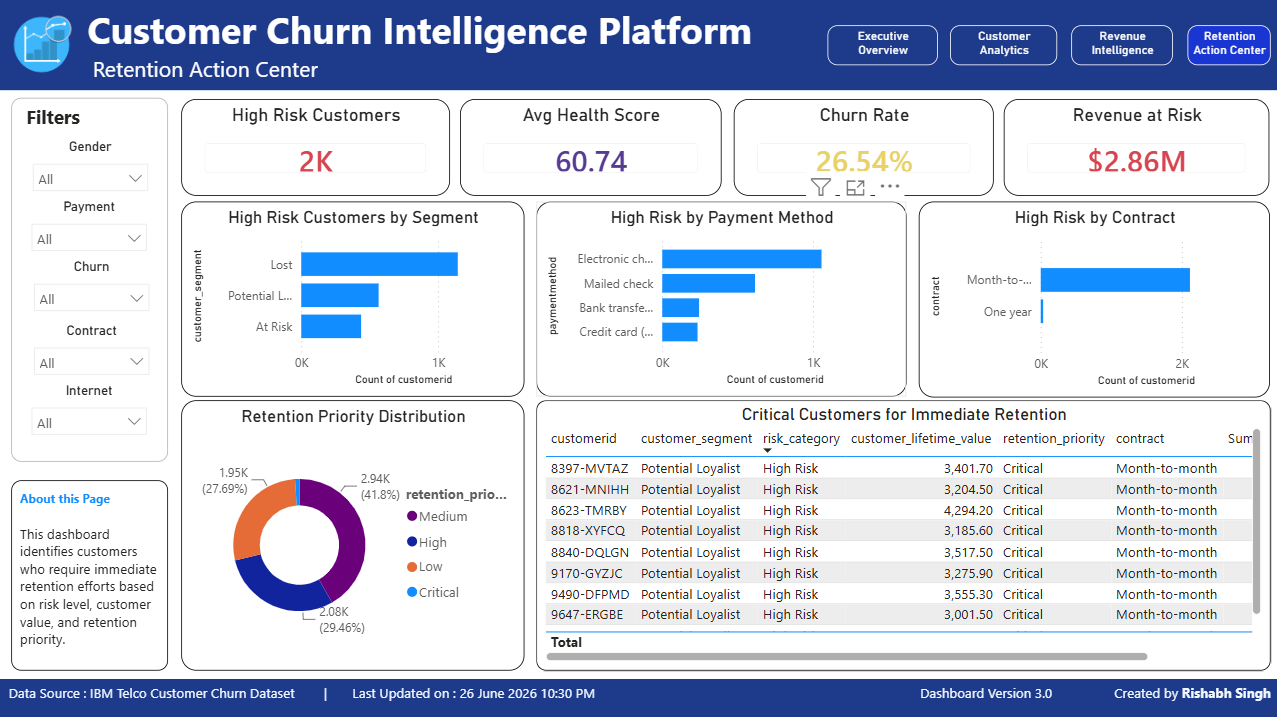

The page's visual inventory and layout, read from the dashboard file:
{"tool":"powerbi","page":{"name":"Retention Action Center","canvas":[1280,720],"ordinal":3},"visuals":[{"type":"cardVisual","fields":{"Data":["Customer Dashboard.High Risk Customers"]},"box":[178.6,98.6,220,122.9],"z":6000},{"type":"cardVisual","fields":{"Data":["Customer Dashboard.Revenue At Risk"]},"box":[1048.6,100,221.4,122.9],"z":7000},{"type":"cardVisual","fields":{"Data":["Customer Dashboard.Average Health Score"]},"box":[544.3,101.4,228.6,121.4],"z":8000},{"type":"cardVisual","fields":{"Data":["Customer Dashboard.Churn Rate"]},"box":[782.9,100,228.6,122.9],"z":9000},{"type":"barChart","title":"High Risk Customers by Segment","fields":{"Category":["Customer Dashboard.customer_segment"],"Y":["CountNonNull(Customer Dashboard.customerid)"]},"box":[331.4,448.6,421.4,195.7],"z":10000},{"type":"textbox","box":[0,0,1280,91.4],"z":11000,"group":"g1"},{"type":"barChart","title":"High Risk by Contract","fields":{"Category":["Customer Dashboard.contract"],"Y":["CountNonNull(Customer Dashboard.customerid)"]},"box":[782.9,524.3,334.3,195.7],"z":11000},{"type":"donutChart","title":"Retention Priority Distribution","fields":{"Category":["Customer Dashboard.retention_priority"],"Y":["CountNonNull(Customer Dashboard.customerid)"]},"box":[727.1,415.7,277.1,195.7],"z":12000},{"type":"barChart","title":"High Risk by Payment Method","fields":{"Category":["Customer Dashboard.paymentmethod"],"Y":["CountNonNull(Customer Dashboard.customerid)"]},"box":[659.1,397.4,276.4,198.1],"z":13000},{"type":"tableEx","title":"Critical Customers for Immediate Retention","fields":{"Values":["Customer Dashboard.customerid","Customer Dashboard.customer_segment","Customer Dashboard.risk_category","Customer Dashboard.customer_lifetime_value","Customer Dashboard.retention_priority","Customer Dashboard.contract","Sum(Customer Dashboard.monthlycharges)"]},"box":[168.8,397.4,479.4,295.9],"z":14000},{"type":"shape","box":[11.4,98.6,157.1,364.3],"z":14001},{"type":"slicer","title":"Gender","fields":{"Values":["Customer Dashboard.gender"]},"box":[22.9,140,135.7,60],"z":14002},{"type":"slicer","title":"Payment","fields":{"Values":["Customer Dashboard.paymentmethod"]},"box":[21.4,200,135.7,77.1],"z":14003},{"type":"slicer","title":"Internet","fields":{"Values":["Customer Dashboard.internetservice"]},"box":[21.4,384.3,135.7,61.4],"z":14004},{"type":"slicer","title":"Churn","fields":{"Values":["Customer Dashboard.churn"]},"box":[24.3,260,135.7,78.6],"z":14005},{"type":"slicer","title":"Contract","fields":{"Values":["Customer Dashboard.contract"]},"box":[24.3,324.3,135.7,60],"z":14006},{"type":"textbox","box":[21.4,100,122.9,38.6],"z":14007},{"type":"group","id":"g1","title":"Group 1","box":[0,0,1280,91.4],"z":14008},{"type":"textbox","box":[0,680,1280,40],"z":14009},{"type":"textbox","box":[11.4,481.4,157.1,190],"z":14010},{"type":"actionButton","title":"Executive Overview","box":[827.1,25.7,110,40],"z":17000,"group":"g1"},{"type":"actionButton","title":"Revenue Intelligence","box":[1071.4,25.7,101.4,40],"z":18000,"group":"g1"},{"type":"actionButton","title":"Retention Action Center","box":[1187.1,25.7,82.9,40],"z":19000,"group":"g1"},{"type":"actionButton","title":"Customer Analytics","box":[950,25.7,107.1,40],"z":20000,"group":"g1"}]}

Visuals, with their boxes in screenshot pixels (x1, y1, x2, y2), scaled from the page's 1280x720 canvas onto the 1277x717 screenshot:
cardVisual - Customer Dashboard.High Risk Customers: [left=178, top=98, right=398, bottom=221]
cardVisual - Customer Dashboard.Revenue At Risk: [left=1046, top=100, right=1267, bottom=222]
cardVisual - Customer Dashboard.Average Health Score: [left=543, top=101, right=771, bottom=222]
cardVisual - Customer Dashboard.Churn Rate: [left=781, top=100, right=1009, bottom=222]
"High Risk Customers by Segment" barChart: [left=331, top=447, right=751, bottom=642]
textbox: [left=0, top=0, right=1276, bottom=91]
"High Risk by Contract" barChart: [left=781, top=522, right=1115, bottom=716]
"Retention Priority Distribution" donutChart: [left=725, top=414, right=1002, bottom=609]
"High Risk by Payment Method" barChart: [left=658, top=396, right=933, bottom=593]
"Critical Customers for Immediate Retention" tableEx: [left=168, top=396, right=647, bottom=690]
shape: [left=11, top=98, right=168, bottom=461]
"Gender" slicer: [left=23, top=139, right=158, bottom=199]
"Payment" slicer: [left=21, top=199, right=157, bottom=276]
"Internet" slicer: [left=21, top=383, right=157, bottom=444]
"Churn" slicer: [left=24, top=259, right=160, bottom=337]
"Contract" slicer: [left=24, top=323, right=160, bottom=383]
textbox: [left=21, top=100, right=144, bottom=138]
"Group 1" group: [left=0, top=0, right=1276, bottom=91]
textbox: [left=0, top=677, right=1276, bottom=716]
textbox: [left=11, top=479, right=168, bottom=669]
"Executive Overview" actionButton: [left=825, top=26, right=935, bottom=65]
"Revenue Intelligence" actionButton: [left=1069, top=26, right=1170, bottom=65]
"Retention Action Center" actionButton: [left=1184, top=26, right=1267, bottom=65]
"Customer Analytics" actionButton: [left=948, top=26, right=1055, bottom=65]
